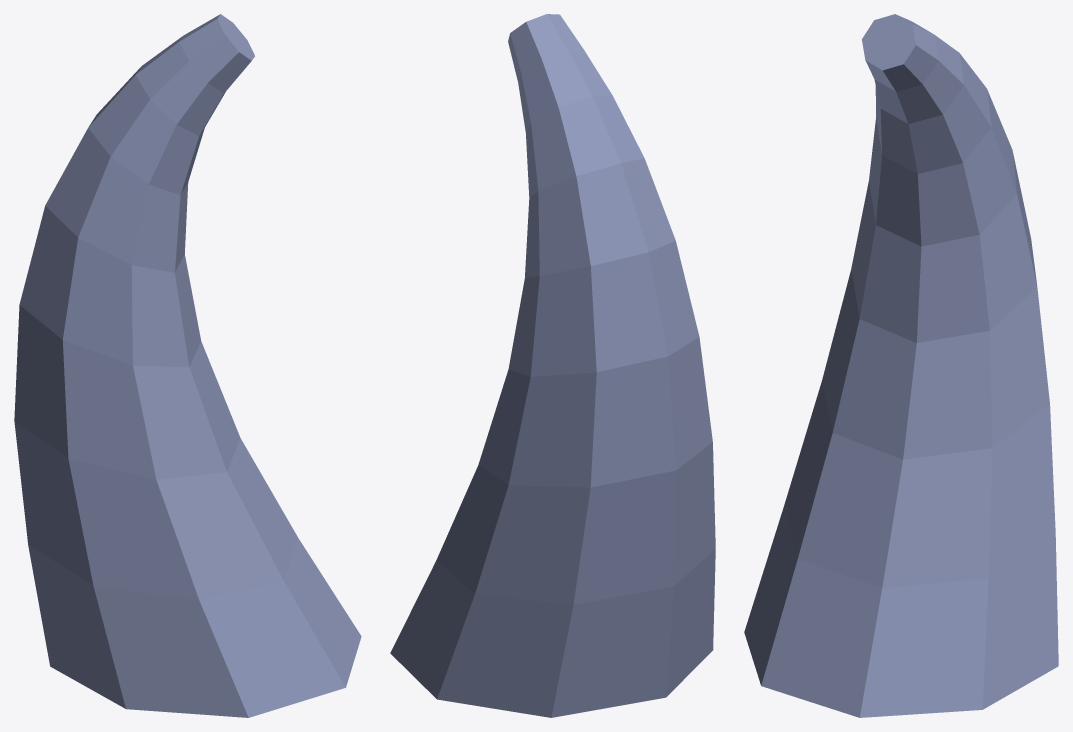
The model's file is Rock_27.fbx.
The picture shows the model from 3 angles, left to right: view 1: azimuth 30°, elevation 25°; view 2: azimuth 150°, elevation 25°; view 3: azimuth 270°, elevation 25°; orthographic projection.
Parts seen in each view (by area): view 1: Rock_27; view 2: Rock_27; view 3: Rock_27.
Part boxes in pixels (x1,y1,x2,y2): Rock_27: [14, 14, 361, 717]; Rock_27: [390, 14, 715, 717]; Rock_27: [744, 14, 1058, 717].
Size of the model in its own units: 2.75 by 5.71 by 2.54.
